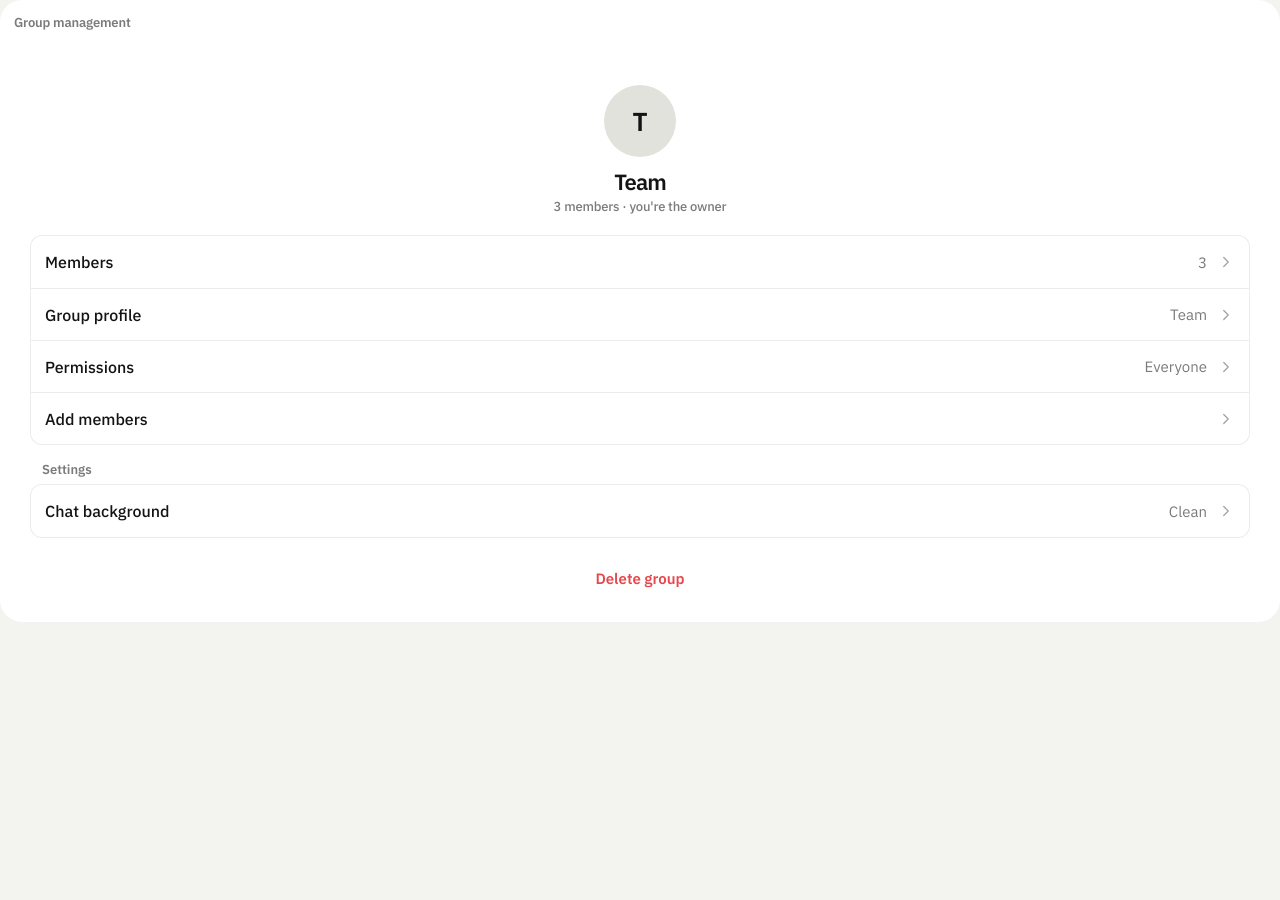
it: GroupAdminPanel › keeps policies and profile off the first screen
This screenshot has width=1280, height=900.
Expected: the button "Members 3" is shown, left=31, top=236, right=1249, bottom=288
Expected: the button "Chat background Clean" is shown, left=31, top=485, right=1249, bottom=537
What coordinates should you click on to do the following:
click the button "Permissions Everyone"
I would click on:
 (90, 367)
Its box is left=31, top=340, right=1249, bottom=392.
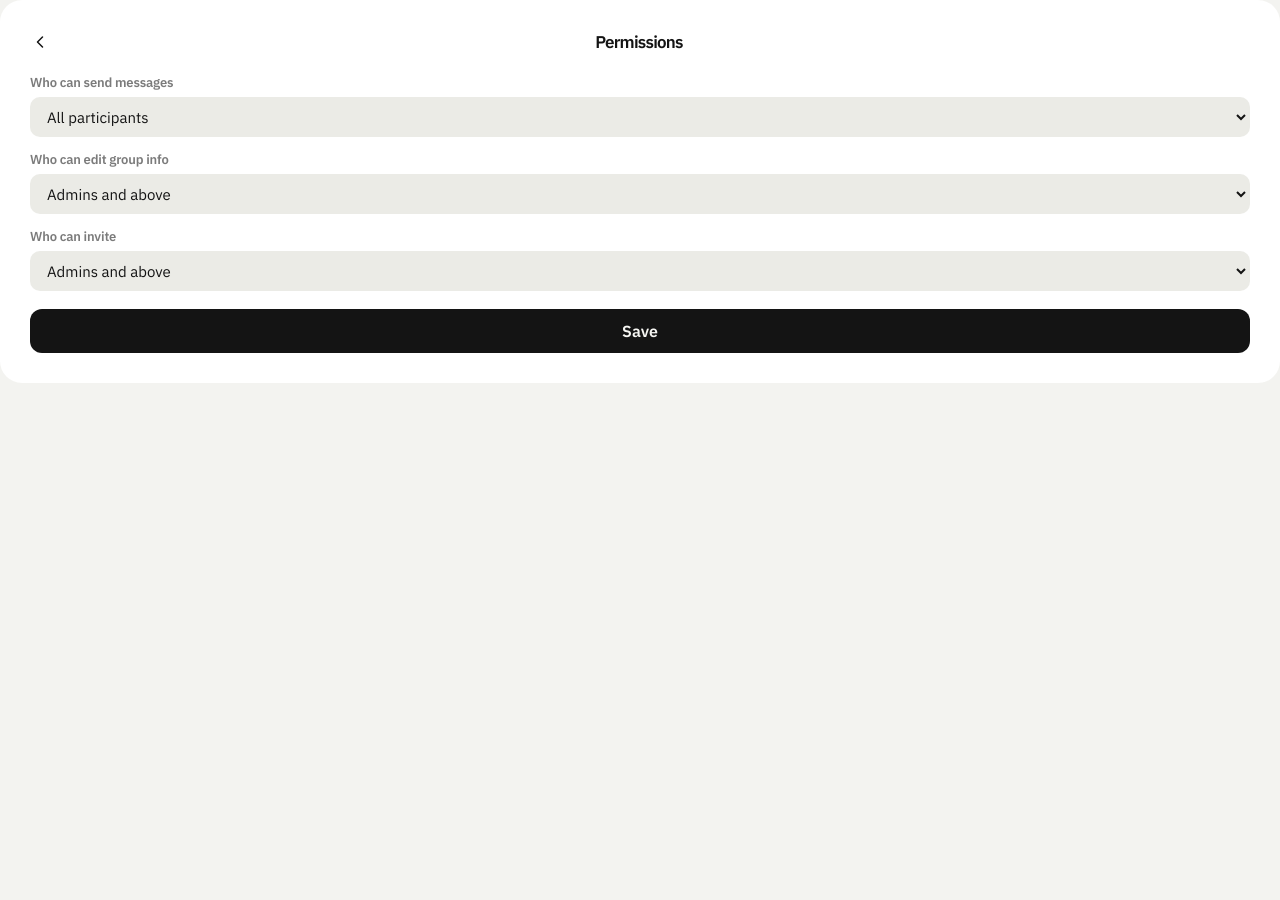
Expected: the dropdown labelled "Who can send messages" is shown, left=30, top=97, right=1250, bottom=137
What coordinates should you click on to do the following:
click the button named "Back"
I would click on:
 (40, 42)
Its box is left=22, top=24, right=58, bottom=60.
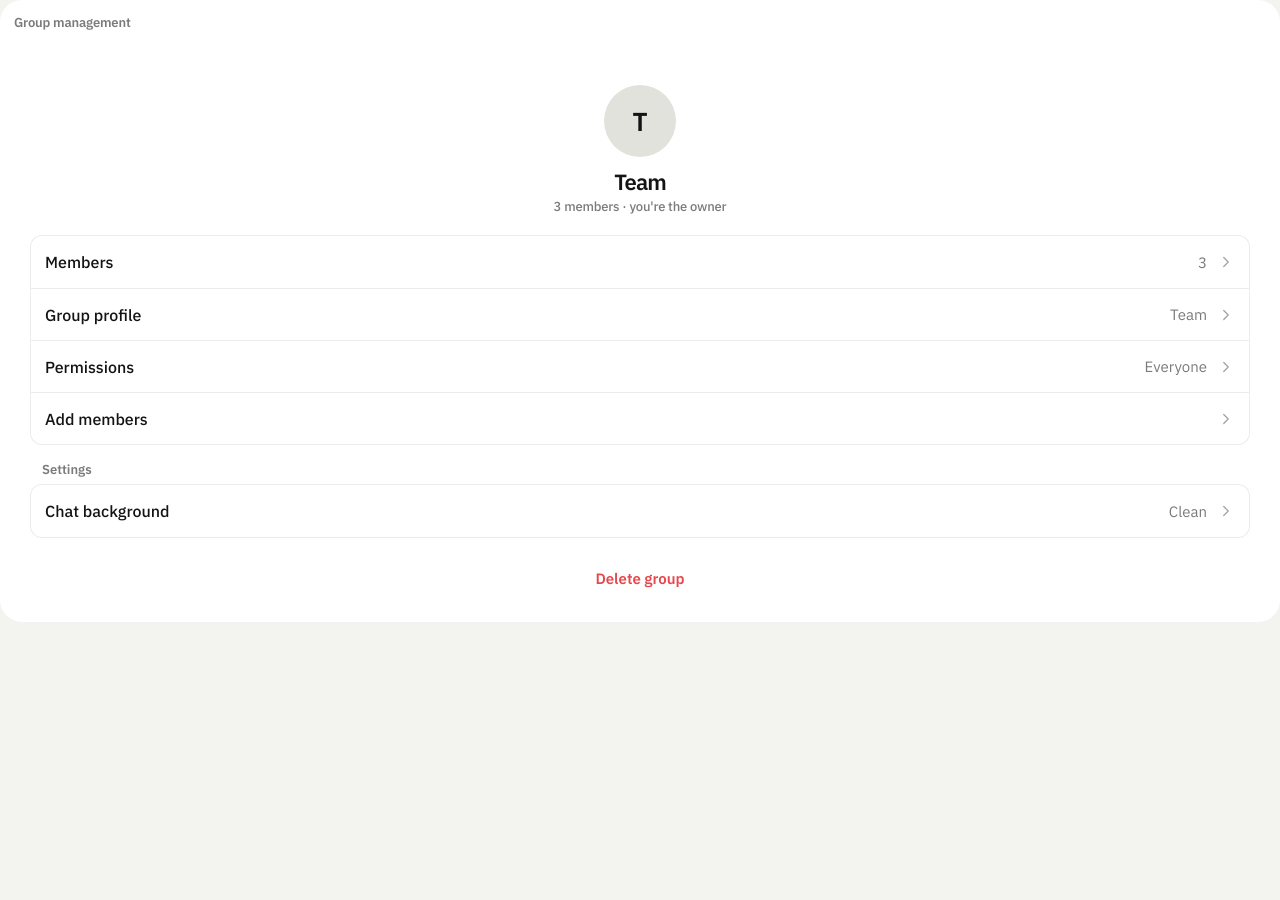
Expected: the text labelled "Who can send messages" is gone
What coordinates should you click on to do the following:
click the button "Chat background Clean"
I would click on:
 (107, 511)
Its box is left=31, top=485, right=1249, bottom=537.
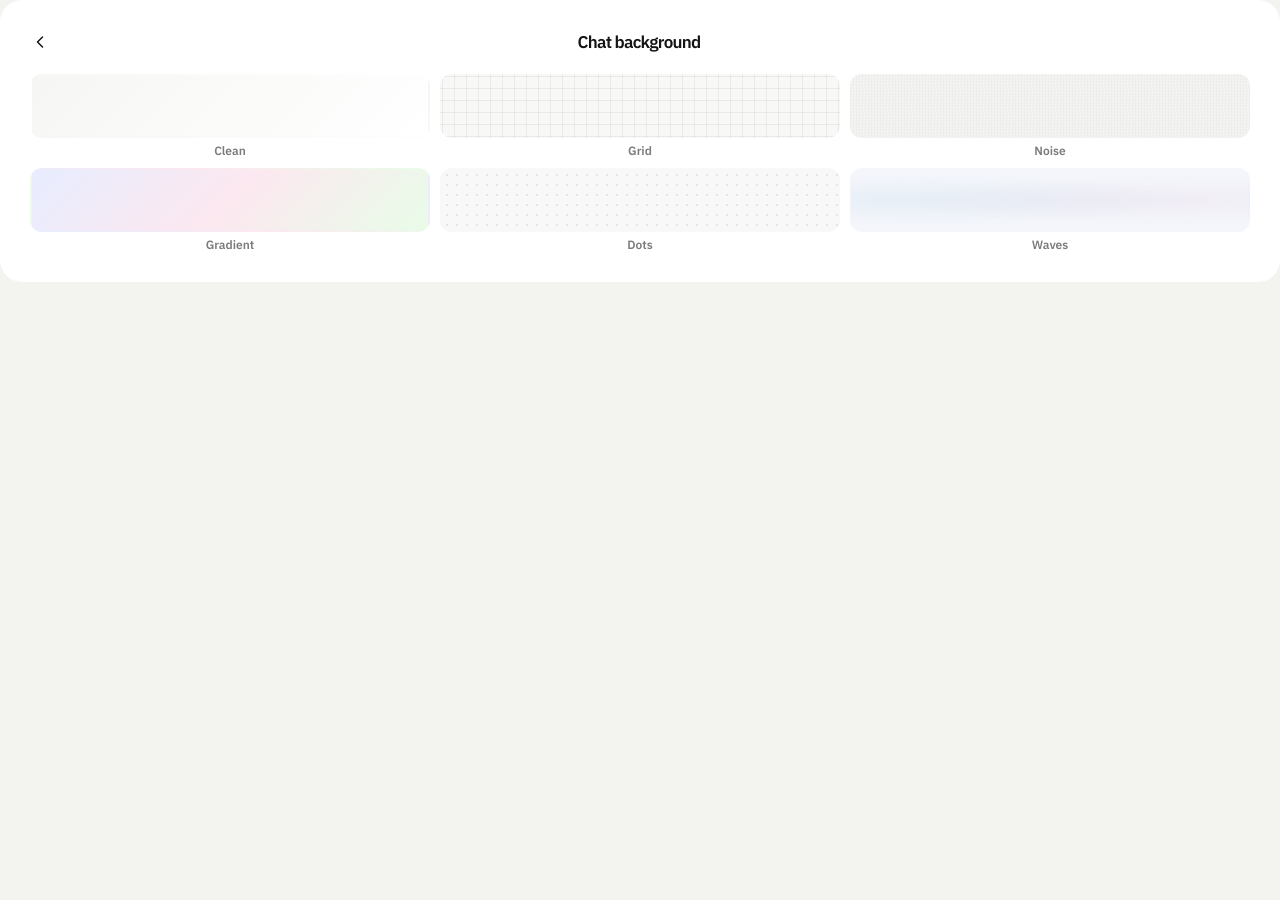
Expected: the text "Waves" is shown, left=1032, top=237, right=1068, bottom=252
